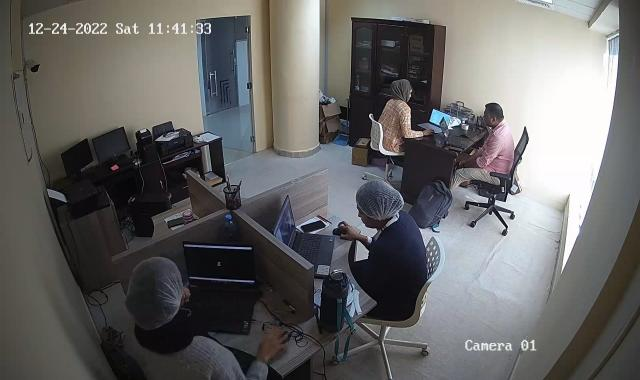hairnet: (126, 255, 184, 330), (356, 180, 403, 229)
no_hairnet: (390, 76, 414, 104), (482, 100, 504, 129)
